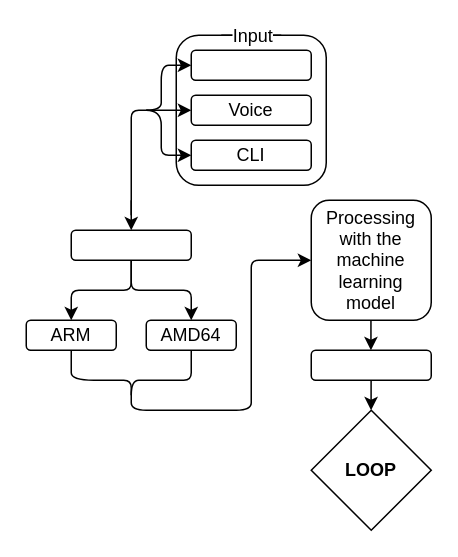
This 458x557 diagram has some shape labels left out. Each missing label, with the centre of its shape:
"Execution" belongs at point (370, 364).
"Server" belongs at point (130, 244).
"Wrappers" belongs at point (250, 64).
